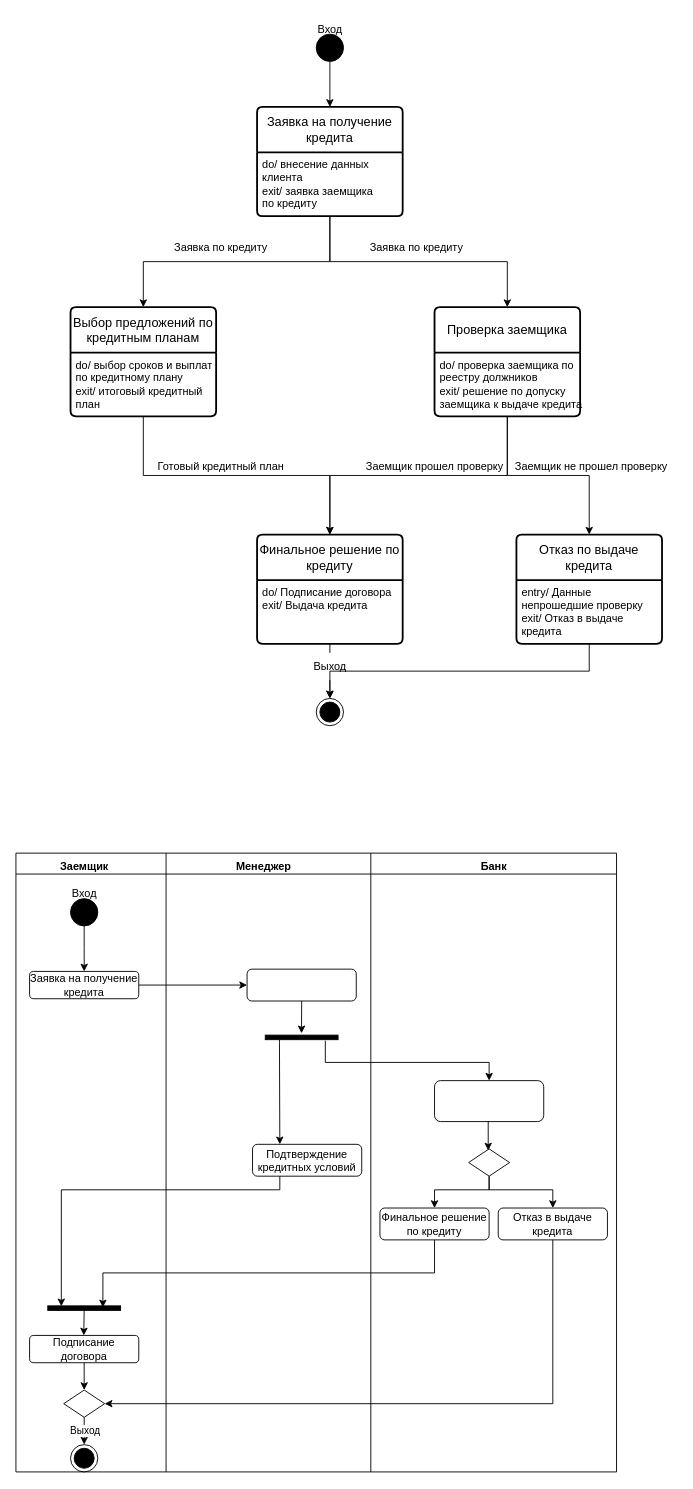
Some shapes in this 693 by 1489 pixel diagram are drawn without their labels. Here are the shapes that lost their labels. From the top down, the centre of each, then its label:
At (x=301, y=984): "Выбор предложений по кредитному плану".
At (x=489, y=1101): "Проверка заемщика по реестру должников".
